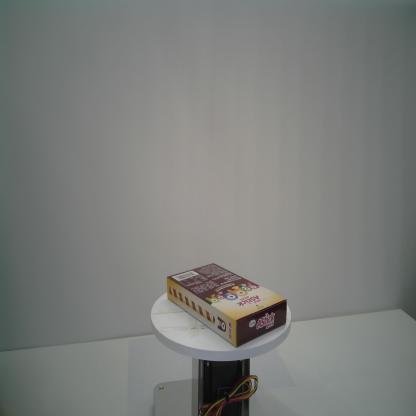Dessert: (166, 262, 286, 348)
